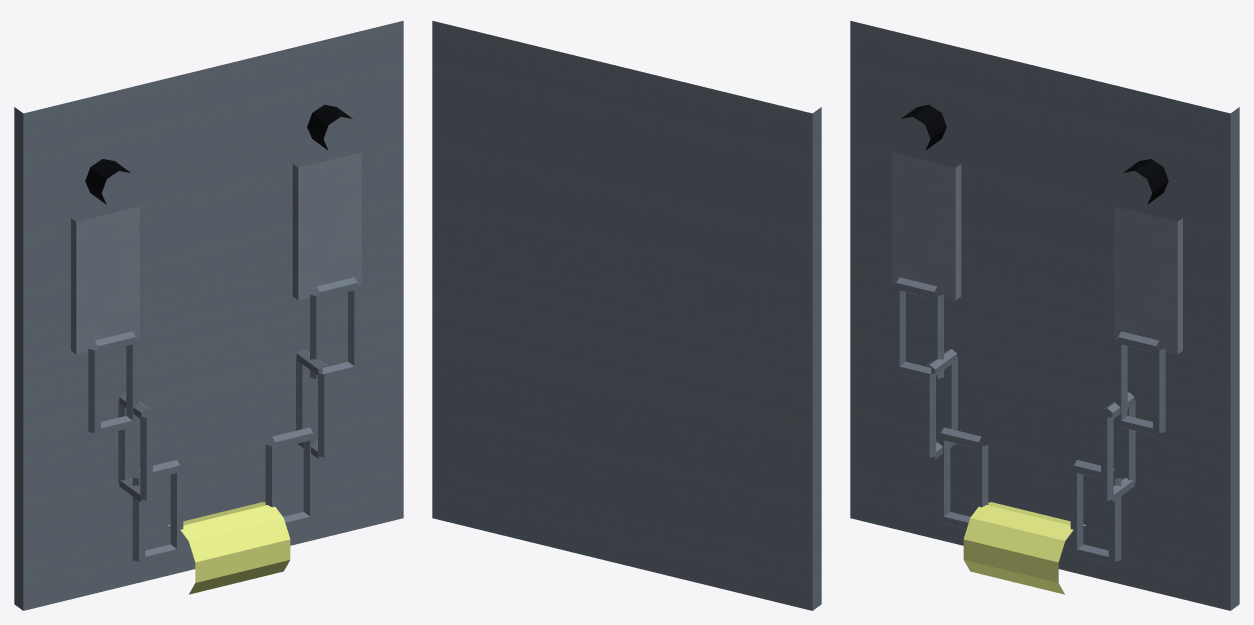
The model's file is tt_climb_anchor.glb.
3 views of the same model, side by side, from view 1: azimuth 30°, elevation 25°; view 2: azimuth 150°, elevation 25°; view 3: azimuth 330°, elevation 25° (orthographic).
Visible parts, largest first — view 1: Anchor_Plate, Hangers, Chain_Links_Hardware, Lower_Off_Ring, Anchor_Bolts_Hardware; view 2: Anchor_Plate; view 3: Anchor_Plate, Hangers, Chain_Links_Hardware, Lower_Off_Ring, Anchor_Bolts_Hardware.
Part boxes in pixels (x1,y1,x2,y2): Anchor_Plate: (14,21,403,610); Hangers: (71,152,361,354); Chain_Links_Hardware: (88,277,360,564); Lower_Off_Ring: (168,502,290,594); Anchor_Bolts_Hardware: (85,104,352,204); Anchor_Plate: (432,21,821,610); Anchor_Plate: (850,21,1239,610); Hangers: (892,152,1182,354); Chain_Links_Hardware: (893,277,1165,564); Lower_Off_Ring: (963,502,1085,594); Anchor_Bolts_Hardware: (901,104,1168,204).
Size of what is drawn, in the model's own units: 0.24 by 0.305 by 0.042.
4 materials, 3 textured.
